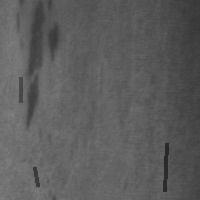inclusion: (15, 1, 52, 97), (20, 70, 43, 133), (45, 23, 62, 66), (162, 141, 168, 193), (32, 165, 39, 188), (18, 75, 22, 104)
